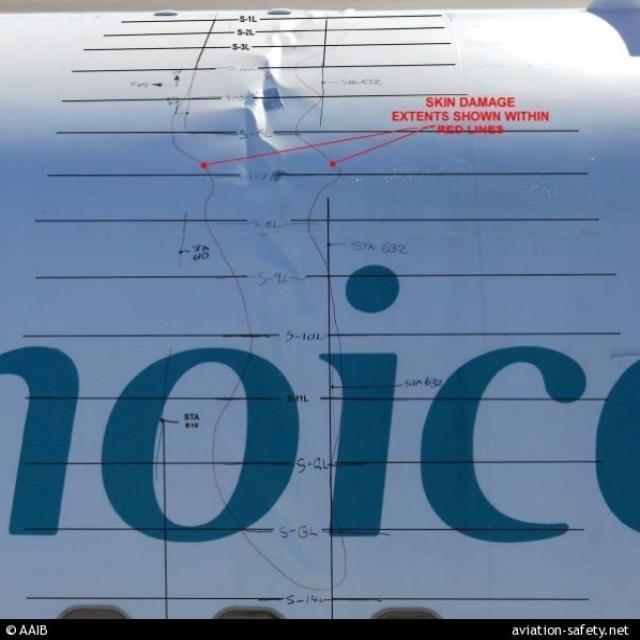dent: (227, 12, 321, 329)
